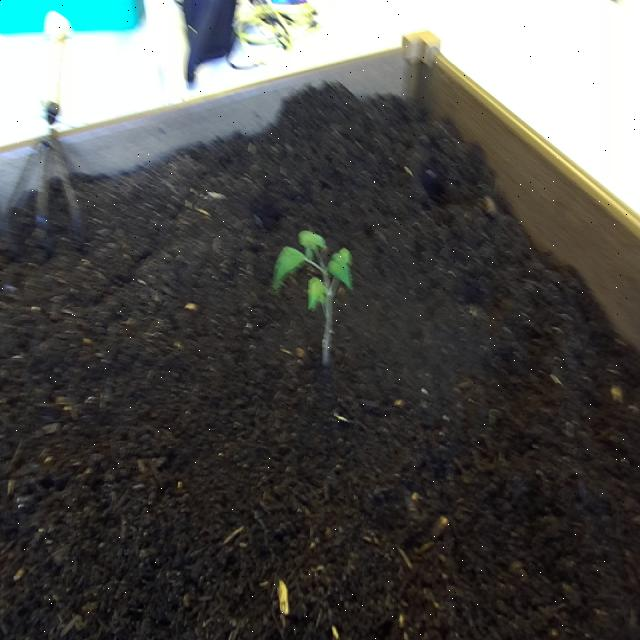Healthy: (270, 225, 356, 378)
